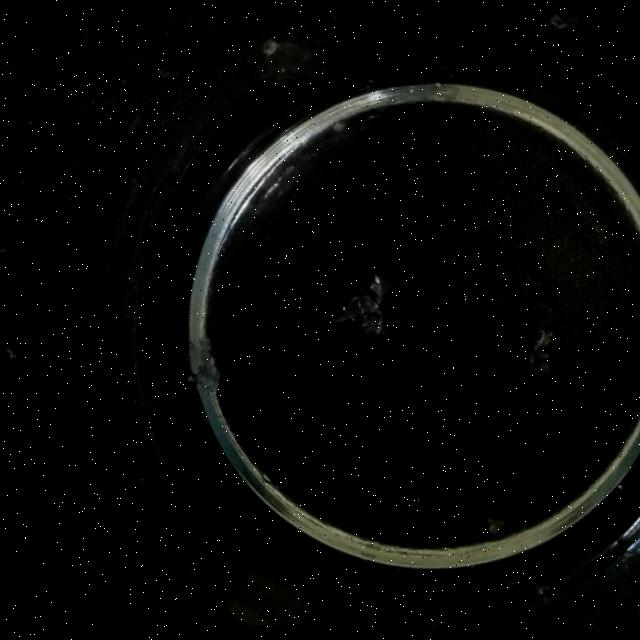Fibre: (335, 276, 395, 338), (188, 337, 218, 388), (527, 321, 553, 373), (486, 516, 506, 534), (4, 336, 18, 360)
microbeads: (263, 40, 279, 56), (333, 120, 347, 132), (0, 246, 7, 256)
